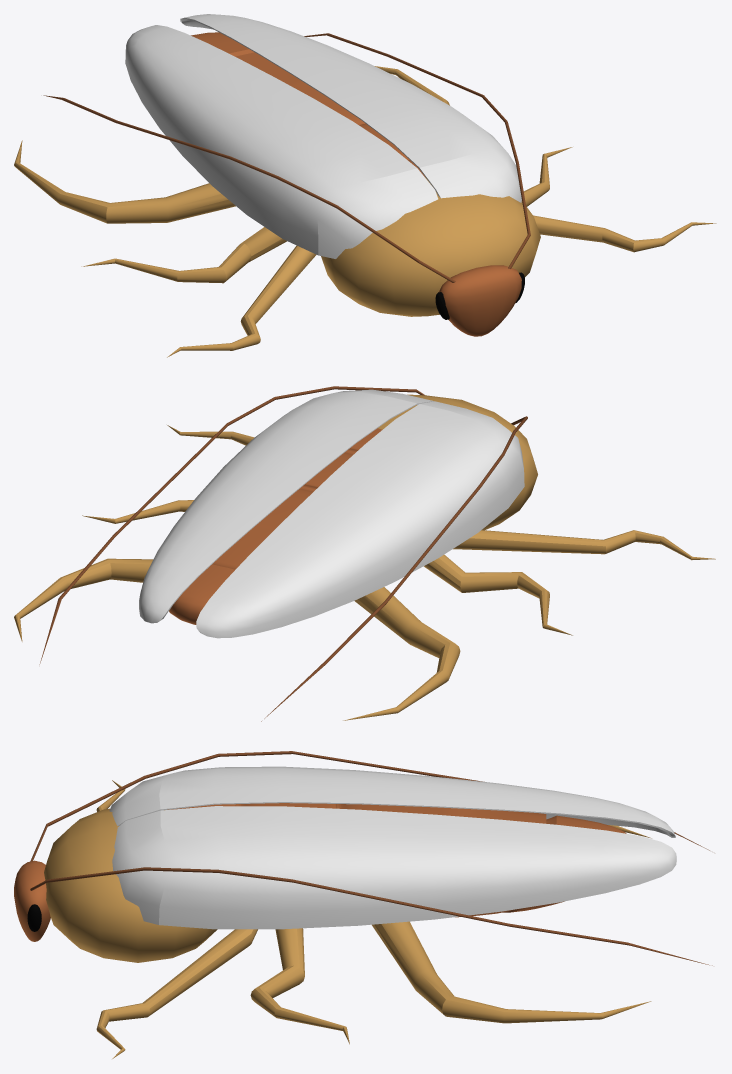
The model's file is Cucaracha.fbx.
3 views of the same model, one above another, from view 1: azimuth 30°, elevation 25°; view 2: azimuth 150°, elevation 25°; view 3: azimuth 270°, elevation 25° (orthographic). The views are drawn at different scales.
Visible parts, largest first — view 1: Cube, Cube.005, Cube.001, Vert.005, Cube.002, Vert, Cube.004; view 2: Cube, Cube.005, Vert.005, Cube.004, Vert, Cube.001; view 3: Cube.005, Cube, Vert.005, Cube.001, Vert, Cube.004, Cube.002.
Part boxes in pixels (bbox=[...]): Cube: bbox=[125, 25, 438, 258]; Cube.005: bbox=[180, 14, 521, 202]; Cube.001: bbox=[321, 177, 540, 316]; Vert.005: bbox=[14, 66, 716, 357]; Cube.002: bbox=[439, 265, 521, 336]; Vert: bbox=[43, 33, 530, 282]; Cube.004: bbox=[191, 32, 425, 177]; Cube: bbox=[196, 401, 524, 638]; Cube.005: bbox=[139, 389, 433, 623]; Vert.005: bbox=[14, 425, 715, 720]; Cube.004: bbox=[169, 428, 382, 624]; Vert: bbox=[39, 386, 527, 721]; Cube.001: bbox=[378, 394, 537, 530]; Cube.005: bbox=[112, 806, 676, 929]; Cube: bbox=[109, 766, 675, 837]; Vert.005: bbox=[96, 780, 651, 1058]; Cube.001: bbox=[44, 808, 217, 962]; Vert: bbox=[30, 751, 712, 965]; Cube.004: bbox=[167, 803, 626, 917]; Cube.002: bbox=[14, 860, 50, 941].
Bounding box in the file's own units: 203 × 46.21 × 215.
